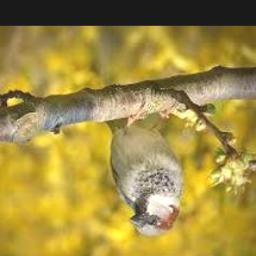Sparrow: (104, 111, 183, 237)
